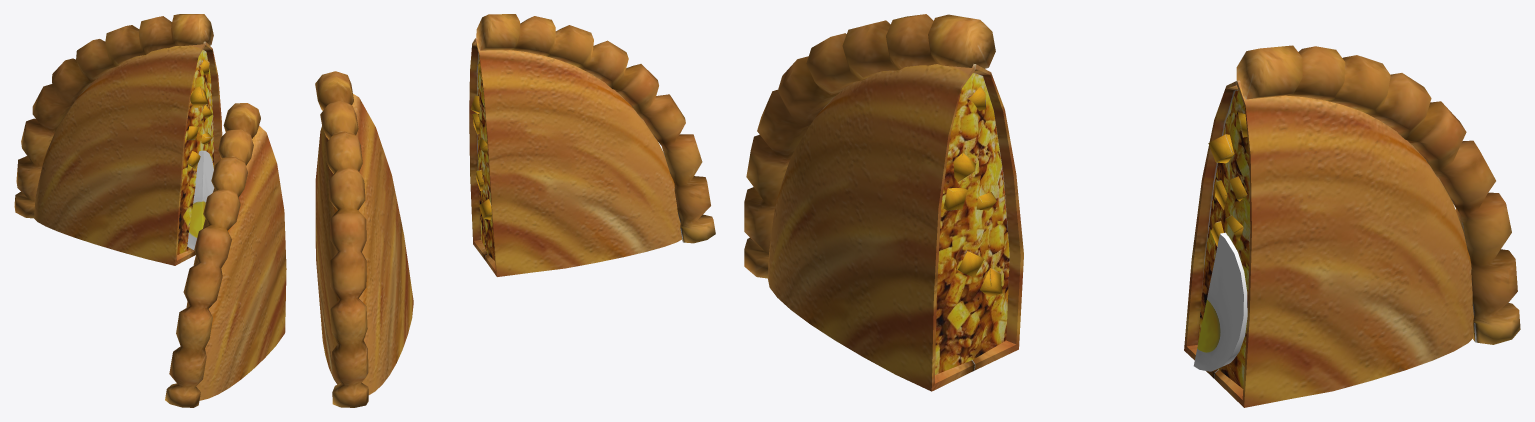
File: Separated_Pies.fbx
3 views of the same model, side by side, from view 1: azimuth 30°, elevation 25°; view 2: azimuth 150°, elevation 25°; view 3: azimuth 270°, elevation 25° (orthographic). The views are drawn at different scales.
Parts seen in each view (by area): view 1: polySurface1037, polySurface1038, polySurface1045, polySurface1046, polySurface1047, polySurface1040; view 2: polySurface1038, polySurface1037, polySurface1045, polySurface1046; view 3: polySurface1037, polySurface1038, polySurface1046, polySurface1045, polySurface1047.
Boxes of the visible parts, left/top/right/bottom form: polySurface1037: left=34, top=41, right=222, bottom=265; polySurface1038: left=186, top=125, right=286, bottom=400; polySurface1045: left=165, top=103, right=260, bottom=407; polySurface1046: left=14, top=14, right=213, bottom=218; polySurface1047: left=187, top=150, right=214, bottom=250; polySurface1040: left=190, top=86, right=208, bottom=107; polySurface1038: left=469, top=38, right=681, bottom=276; polySurface1037: left=315, top=94, right=413, bottom=394; polySurface1045: left=476, top=14, right=715, bottom=243; polySurface1046: left=315, top=71, right=368, bottom=407; polySurface1037: left=1184, top=80, right=1473, bottom=407; polySurface1038: left=768, top=64, right=1023, bottom=391; polySurface1046: left=1236, top=45, right=1520, bottom=344; polySurface1045: left=744, top=14, right=995, bottom=278; polySurface1047: left=1193, top=232, right=1247, bottom=371.
Bounding box in the file's own units: 9.24 × 9.74 × 19.12.
Materials: 1 (1 with a texture image).
